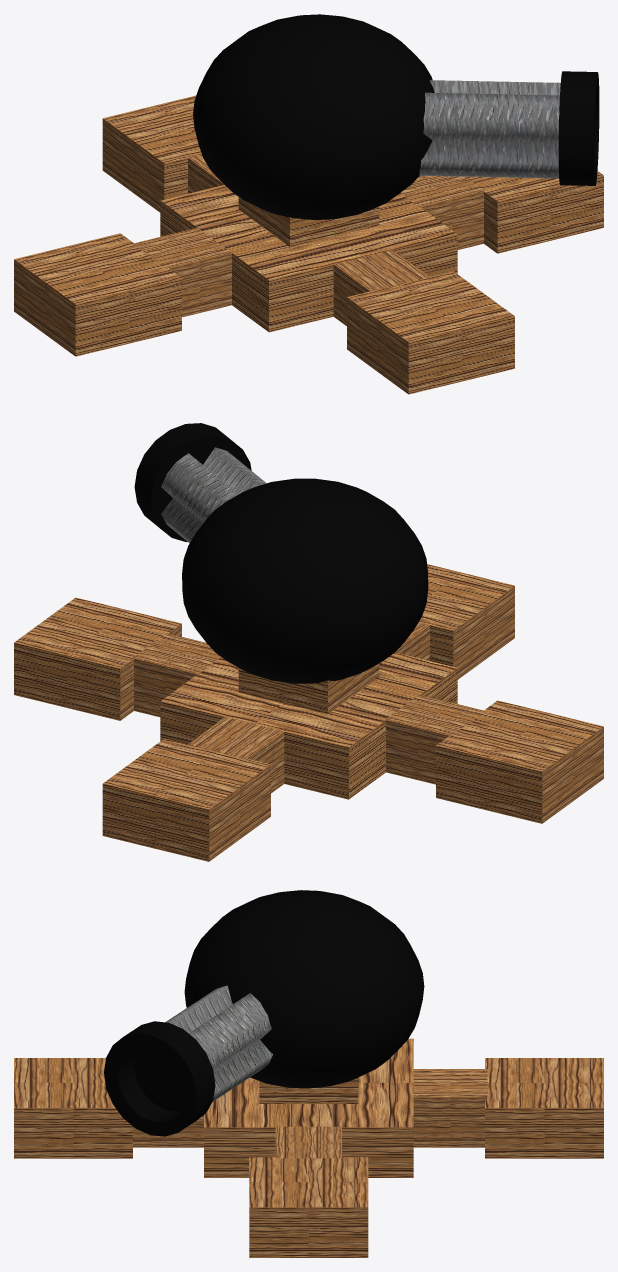
File: cannon.fbx
3 views of the same model, one above another, from view 1: azimuth 30°, elevation 25°; view 2: azimuth 150°, elevation 25°; view 3: azimuth 270°, elevation 25° (orthographic). The views are drawn at different scales.
Parts seen in each view (by area): view 1: Base_for_cannon, pSphere1, pCylinder1, polySurface1; view 2: Base_for_cannon, pSphere1, pCylinder1, polySurface1; view 3: Base_for_cannon, pSphere1, polySurface1, pCylinder1.
Boxes of the visible parts, box(x1,y1,x2,y2) form: Base_for_cannon: box(14, 95, 603, 394); pSphere1: box(193, 14, 434, 219); pCylinder1: box(419, 80, 560, 178); polySurface1: box(558, 71, 599, 185); Base_for_cannon: box(14, 564, 603, 861); pSphere1: box(182, 478, 428, 683); pCylinder1: box(161, 447, 266, 543); polySurface1: box(134, 423, 251, 541); Base_for_cannon: box(14, 1038, 603, 1257); pSphere1: box(184, 890, 424, 1088); polySurface1: box(104, 1021, 215, 1136); pCylinder1: box(165, 985, 273, 1101).
Bounding box in the file's own units: 8.84 × 3.86 × 8.87.
4 materials, 2 textured.
